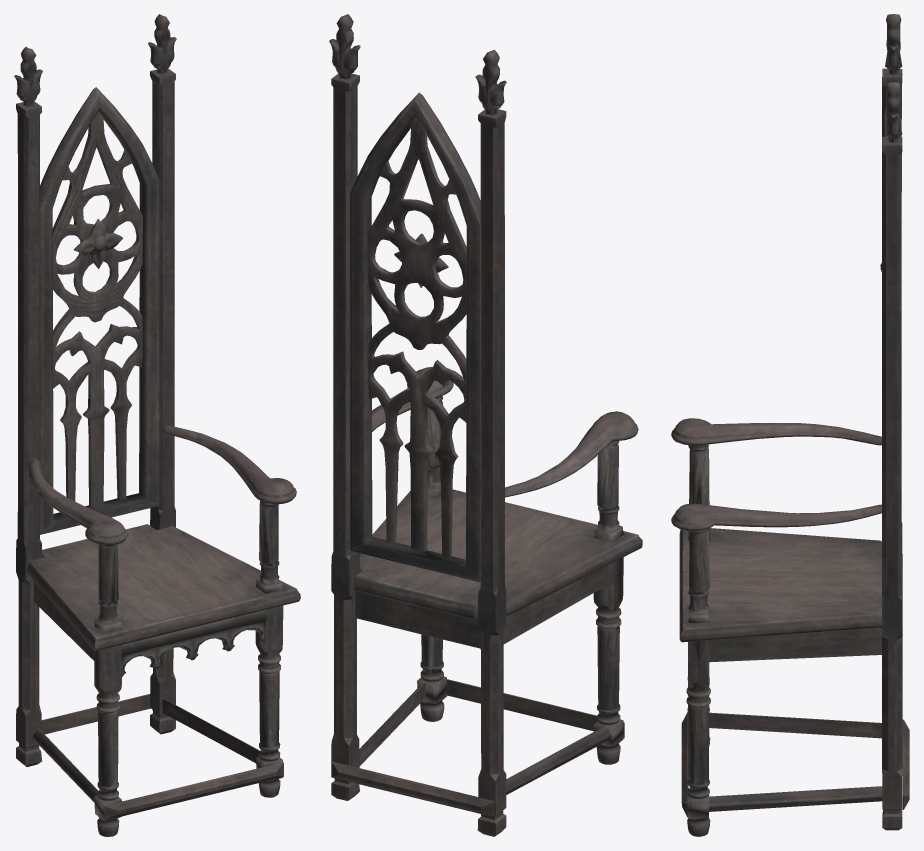
Rendered from WoodenChair_01.glb.
3 views of the same model, side by side, from view 1: azimuth 30°, elevation 25°; view 2: azimuth 150°, elevation 25°; view 3: azimuth 270°, elevation 25° (orthographic). The views are drawn at different scales.
Parts seen in each view (by area): view 1: WoodenChair_01; view 2: WoodenChair_01; view 3: WoodenChair_01.
Boxes of the visible parts, x1,y1,x2,y2 form: WoodenChair_01: (14, 14, 300, 836); WoodenChair_01: (329, 14, 642, 836); WoodenChair_01: (671, 14, 909, 836).
Size of the model in its own units: 0.6878 by 2.27 by 0.6584.
Materials: 1 (1 with a texture image).
